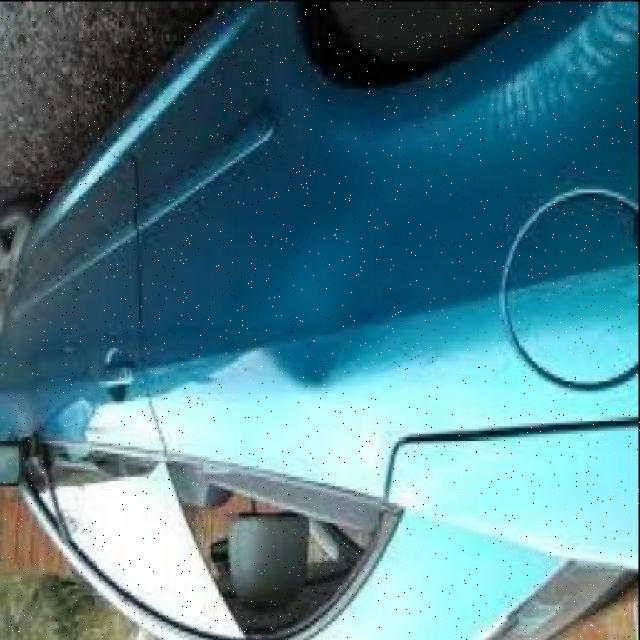damage: (249, 242, 353, 392)
